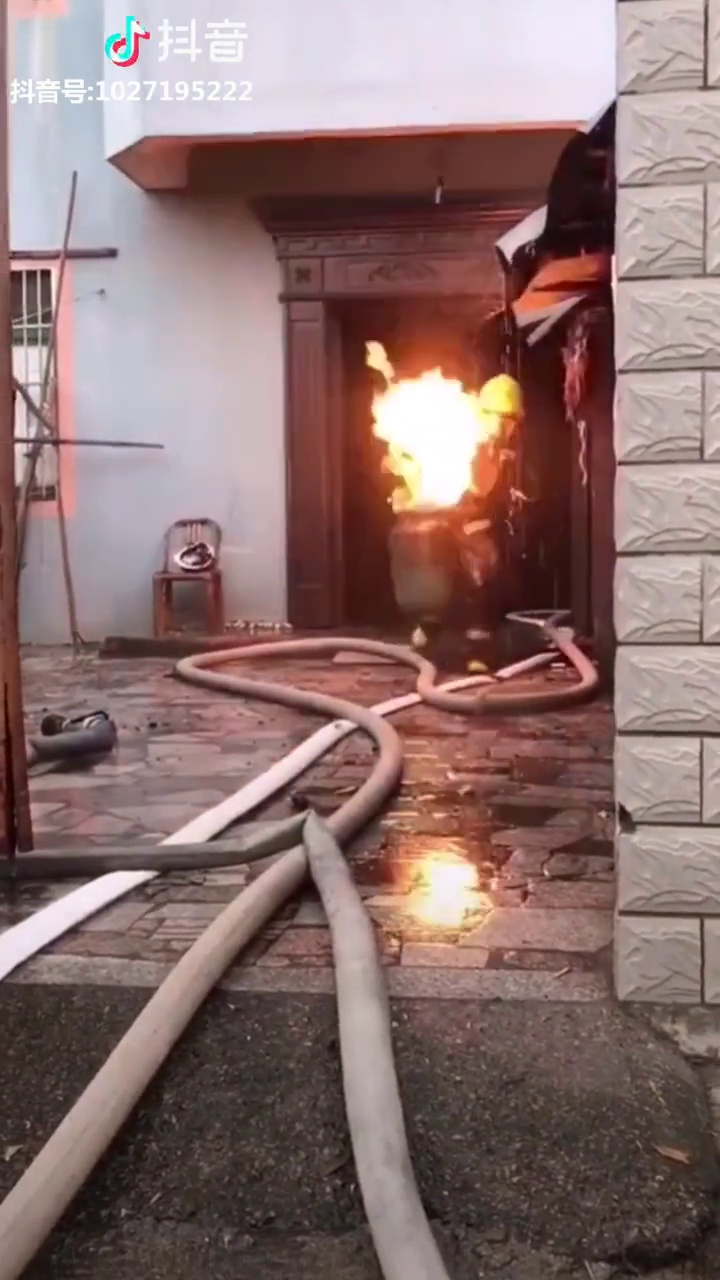fire: (355, 328, 480, 502)
